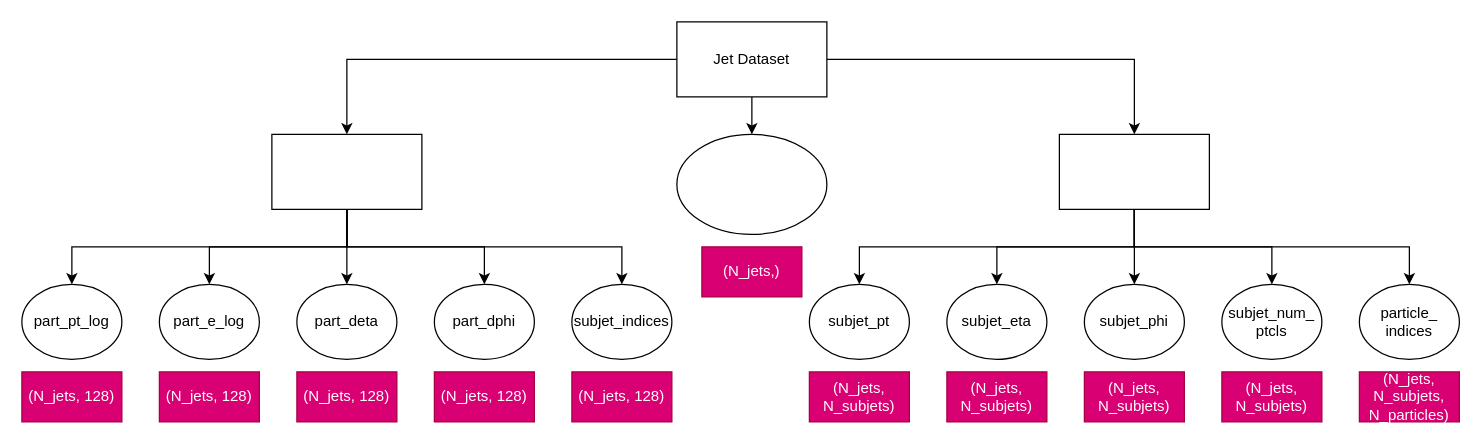
This 1481x445 diagram has some shape labels left out. The centre of each missing label's shape, as x and y in pixels:
"labels" belongs at pixel 751 183.
"particles" belongs at pixel 346 171.
"subjets" belongs at pixel 1133 171.
